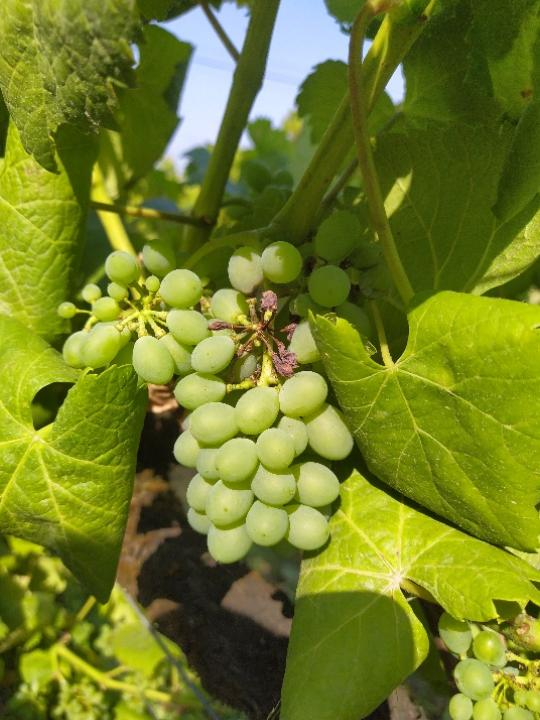grape: (48, 204, 396, 569), (431, 602, 540, 720)
